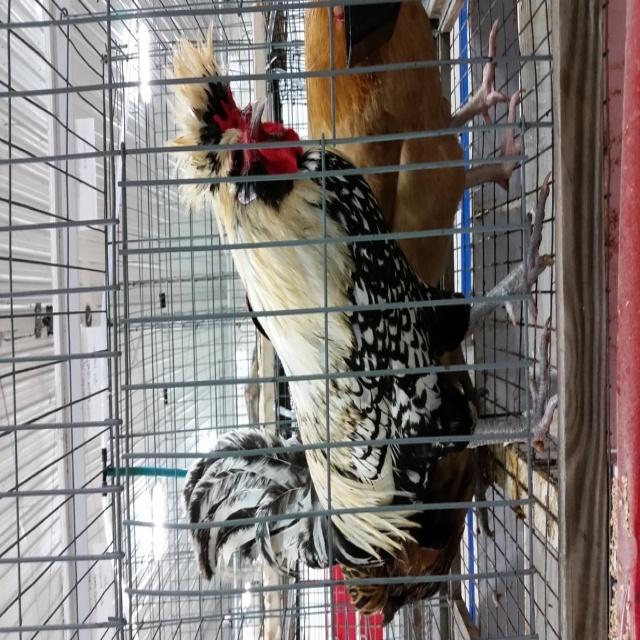Chicken: (162, 21, 560, 563)
